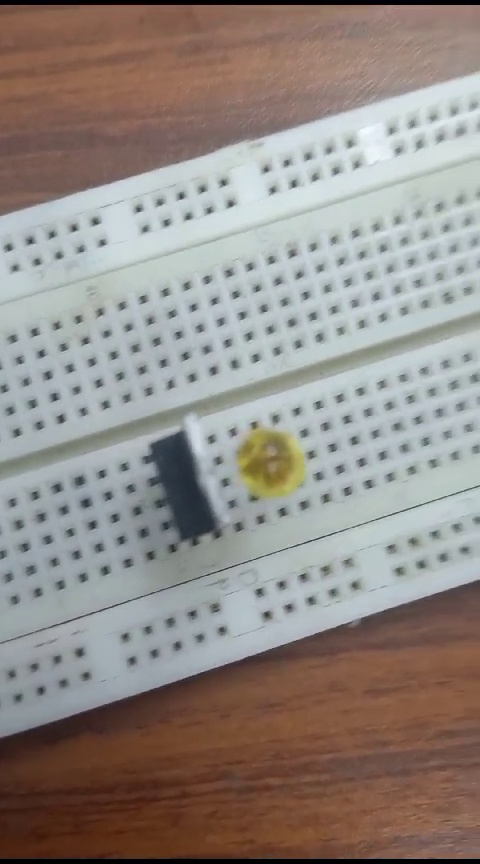LED: (240, 433, 307, 499)
voltage regulator: (144, 419, 228, 549)
